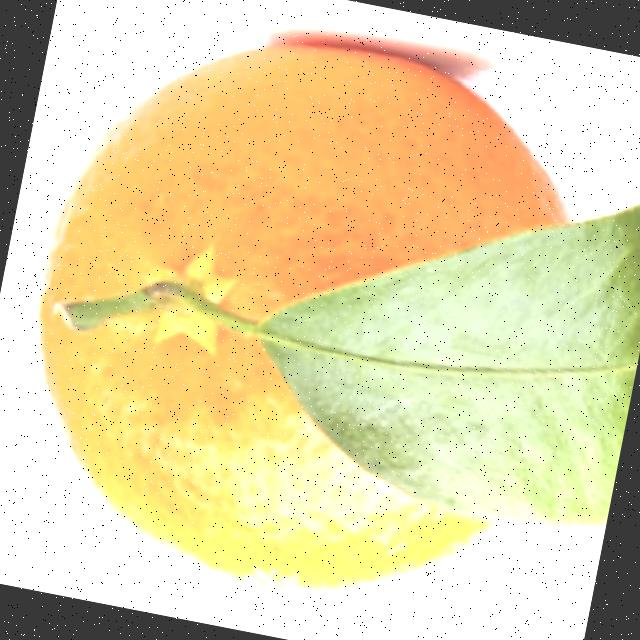orange: (0, 0, 623, 633)
